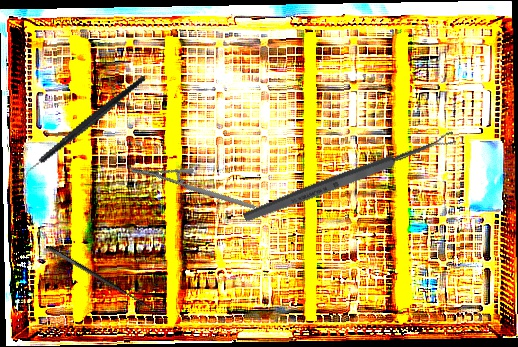Chopper: (2, 74, 166, 187)
Hook Surgical: (46, 237, 165, 317)
Needle Holder: (129, 134, 256, 244)
Surgical Spoon: (241, 130, 458, 225)
